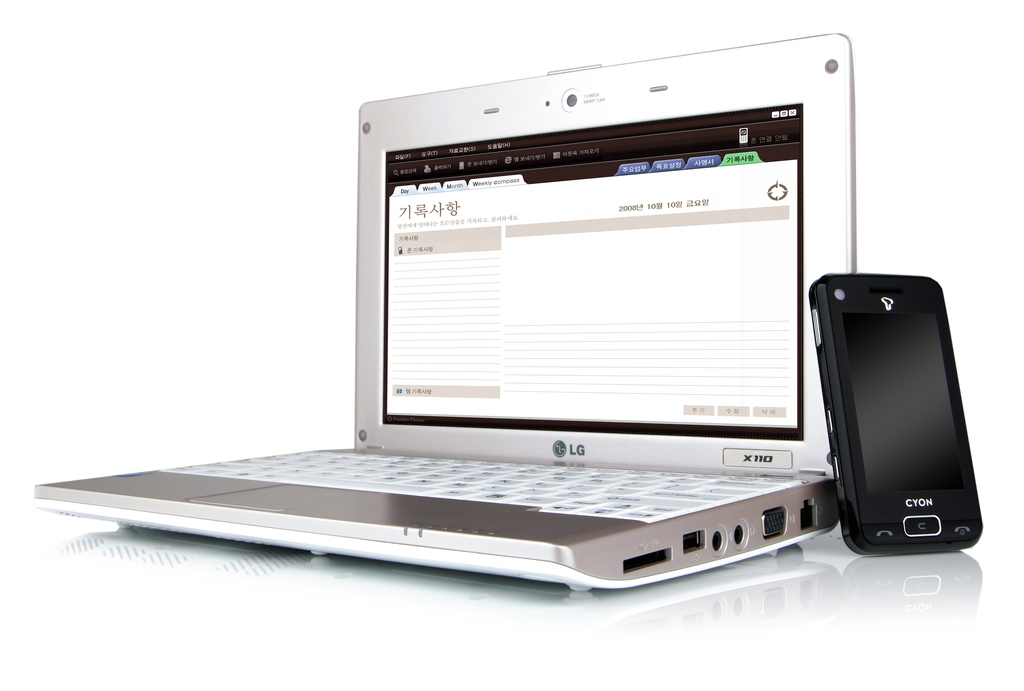Mobile-phone: (807, 271, 986, 559)
